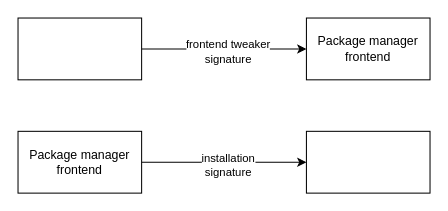
Some shapes in this 448 by 211 pixel diagram are drawn without their labels. Each missing label, with the centre of its shape:
Bootstrapper frontend: the point at 79,48
Package frontend: the point at 367,161
